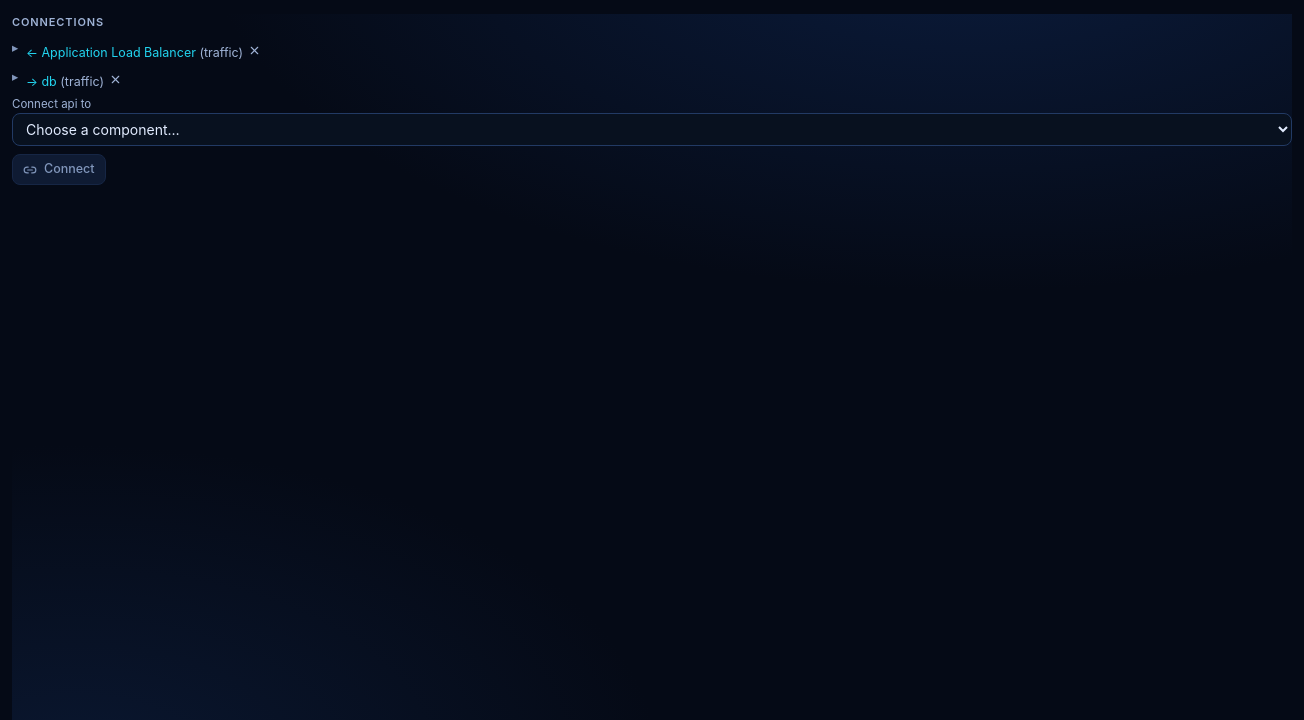
it: connections editor (keyboard path for the canvas) › adds a valid connection from a select, and only offers targets the model allows
Later steps or results of the test are not shown.
Click the button named "Remove connection from api to db".
click(116, 80)  # box [104, 68, 127, 91]
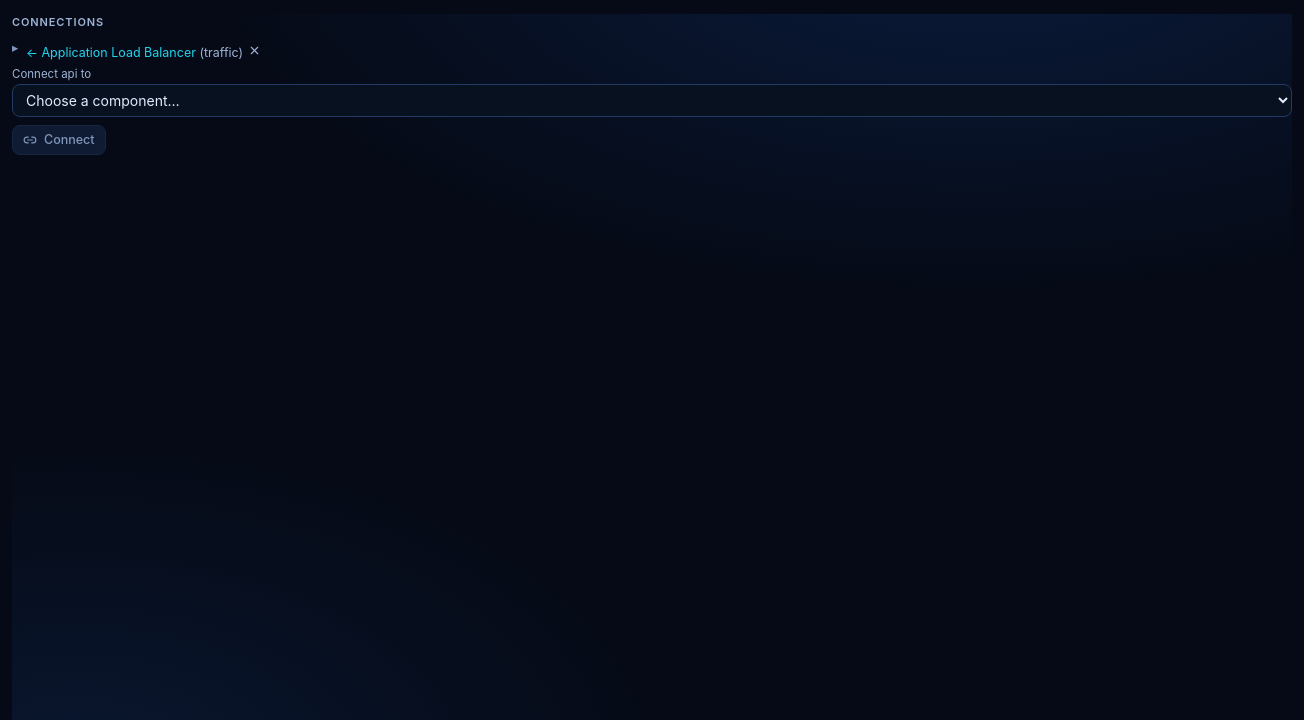
Select "db" in the dropdown labelled "Connect api to" at (652, 100), box [12, 84, 1292, 116]
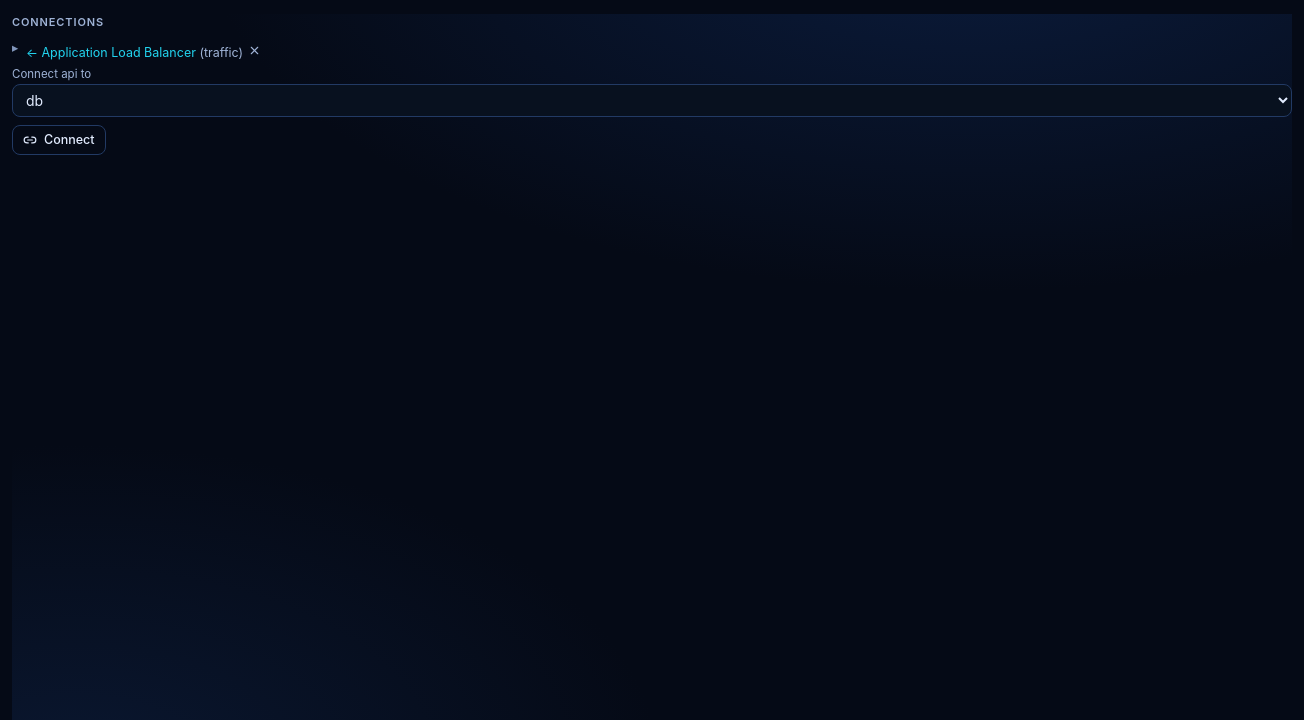
Expected: the button "Connect" is enabled, [12, 124, 106, 155]
